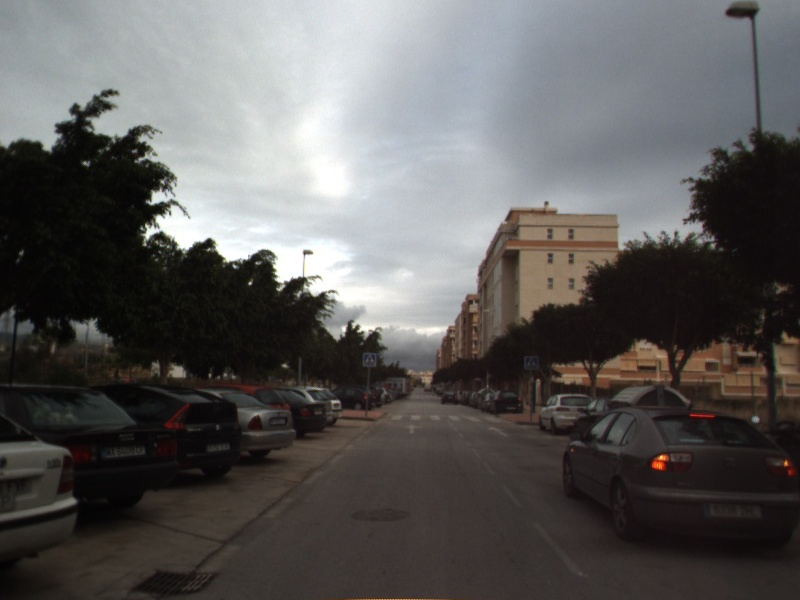STRAIGHT: (486, 424, 510, 439), (402, 422, 423, 436)
